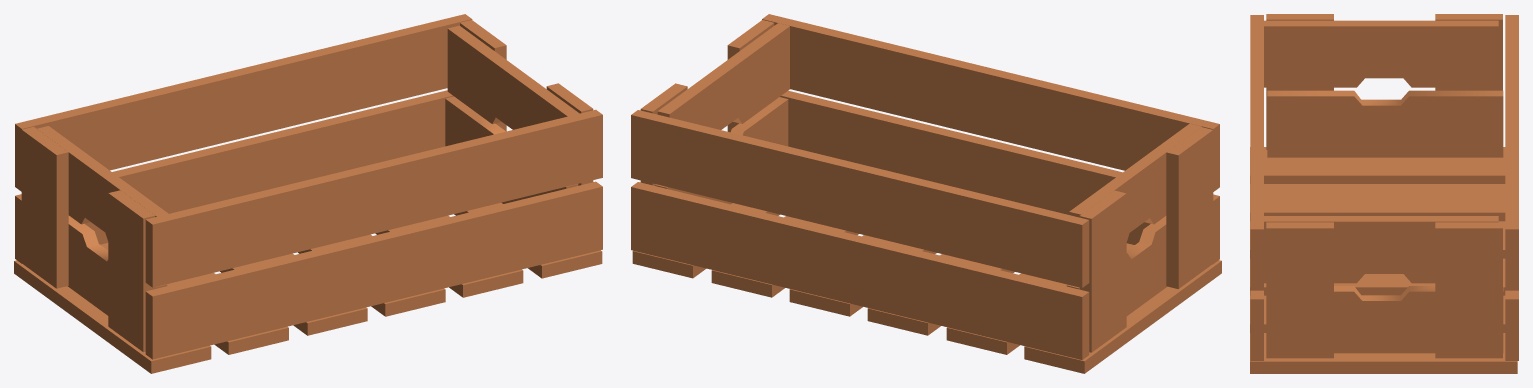
The model's file is open_box_01_broken.fbx.
3 views of the same model, side by side, from view 1: azimuth 30°, elevation 25°; view 2: azimuth 150°, elevation 25°; view 3: azimuth 270°, elevation 25° (orthographic). The views are drawn at different scales.
Visible parts, largest first — view 1: open-box-01_Part_7, open-box-01_Part_6, open-box-01_Part_5, open-box-01_Part_4, open-box-01_Part_2, open-box-01_Part_1, open-box-01_Part_3; view 2: open-box-01_Part_7, open-box-01_Part_6, open-box-01_Part_4, open-box-01_Part_5, open-box-01_Part_2, open-box-01_Part_1, open-box-01_Part_3; view 3: open-box-01_Part_7, open-box-01_Part_3, open-box-01_Part_5, open-box-01_Part_4, open-box-01_Part_6, open-box-01_Part_2, open-box-01_Part_1.
Boxes of the visible parts, x1,y1,x2,y2 form: open-box-01_Part_7: [14, 60, 291, 319]; open-box-01_Part_6: [274, 15, 504, 295]; open-box-01_Part_5: [77, 172, 255, 373]; open-box-01_Part_4: [410, 20, 602, 247]; open-box-01_Part_2: [242, 167, 369, 348]; open-box-01_Part_1: [291, 155, 473, 323]; open-box-01_Part_3: [461, 14, 602, 287]; open-box-01_Part_7: [821, 157, 1148, 373]; open-box-01_Part_6: [631, 110, 905, 310]; open-box-01_Part_4: [643, 14, 957, 145]; open-box-01_Part_5: [1113, 100, 1221, 327]; open-box-01_Part_2: [998, 71, 1121, 273]; open-box-01_Part_1: [899, 60, 1009, 259]; open-box-01_Part_3: [631, 95, 862, 208]; open-box-01_Part_7: [1332, 14, 1518, 267]; open-box-01_Part_3: [1250, 225, 1518, 373]; open-box-01_Part_5: [1250, 14, 1383, 196]; open-box-01_Part_4: [1250, 139, 1506, 294]; open-box-01_Part_6: [1250, 137, 1518, 373]; open-box-01_Part_2: [1250, 61, 1346, 244]; open-box-01_Part_1: [1250, 117, 1266, 299].
Size of the model in its own units: 75.02 by 23.68 by 39.64.
Materials: 1 (1 with a texture image).
